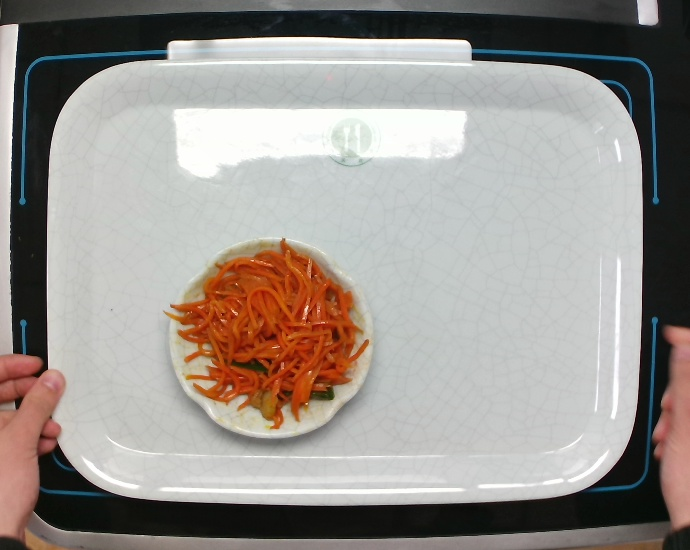JYsf-Ao_Yuan_Wan: (163, 226, 379, 441)
